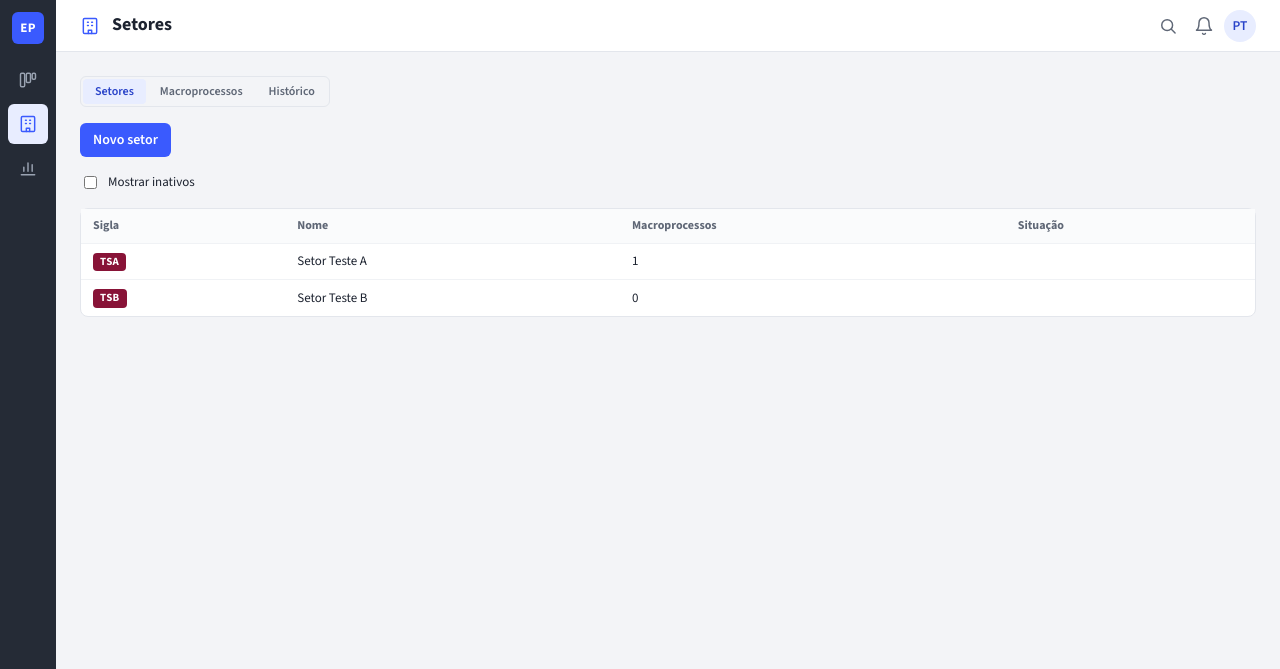
Scenario: o setor aberto mostra o selo da sigla para integrante_ep
Click the button "TSA".
click(110, 262)  # box [93,252,126,271]
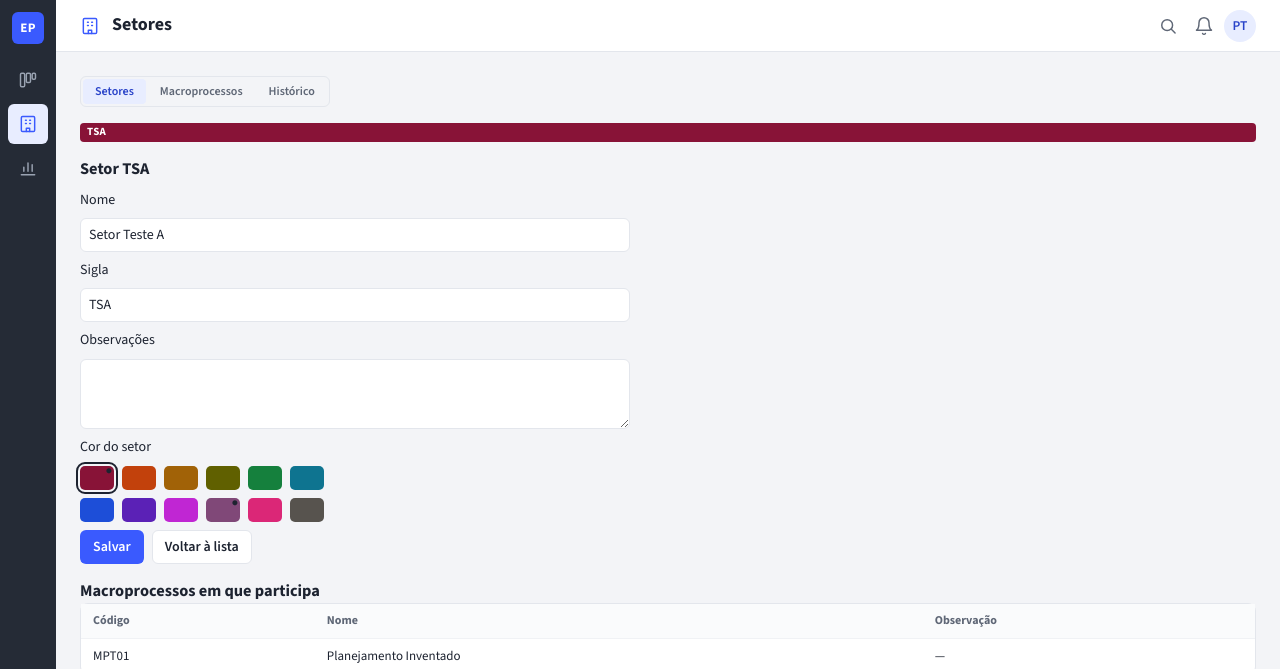
Check: the button "Voltar à lista" is shown, box [152,530,252,564]
